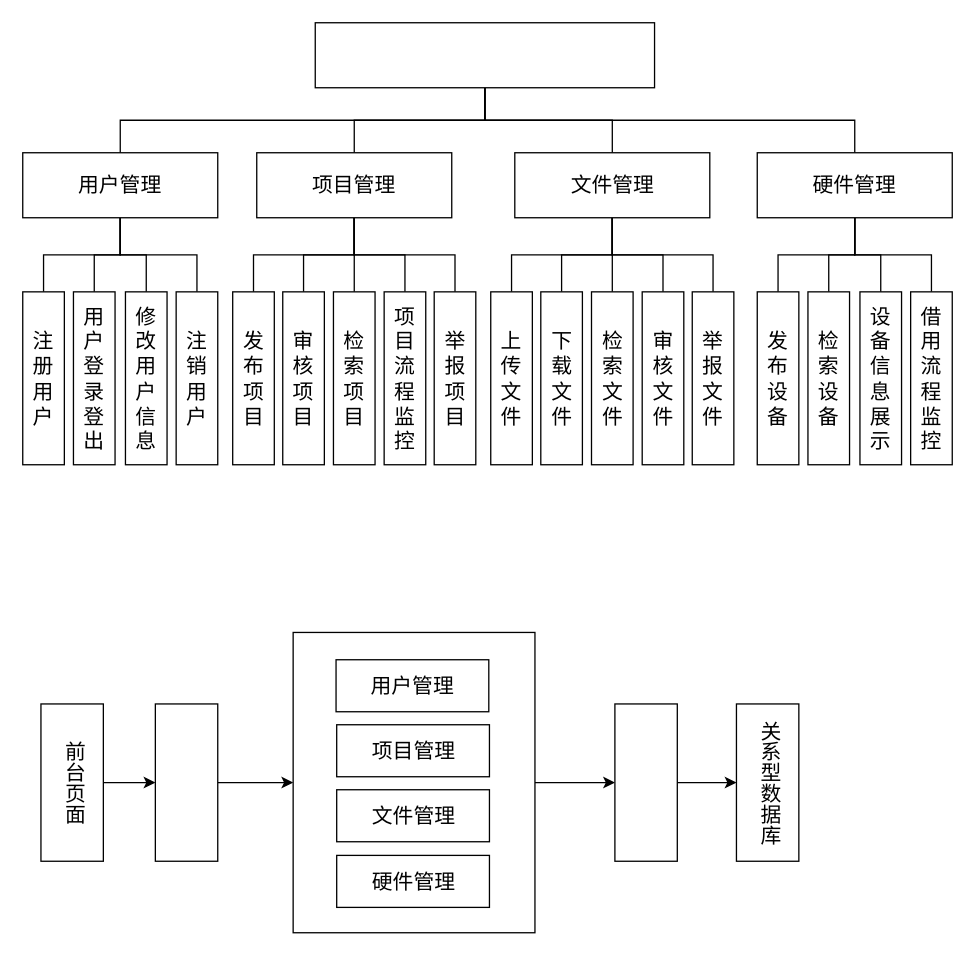
The diagram is 975 pixels wide and 955 high, and some of its shapes have lost their labels. The shapes that lost their labels are listed below. From the top down, each one's box as (x1, y1, x2, y2) in pixels, then its label:
(314, 21, 655, 88): 资源共享平台
(154, 703, 218, 861): 权限校验
(614, 703, 677, 861): 缓存数据库
